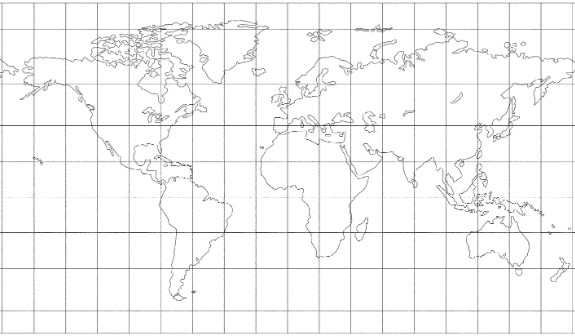

Layout of this report page (visuals, bound fields, positions):
{"tool":"powerbi","page":{"name":"Ej 6","canvas":[1280,720],"ordinal":5},"visuals":[{"type":"pythonVisual","fields":{"Values":["ventas transactions.lat","ventas transactions.longitude","ventas transactions.amount"]},"box":[0,0,785.7,380],"z":0}]}

Visuals, with their boxes on the page's 1280x720 design canvas (x1, y1, x2, y2). These are canvas units, not pixel positions in the 575x336 screenshot, which may show the page scaled, cropped or inside an application window:
pythonVisual - ventas transactions.lat x ventas transactions.longitude: select_region(0, 0, 786, 380)
